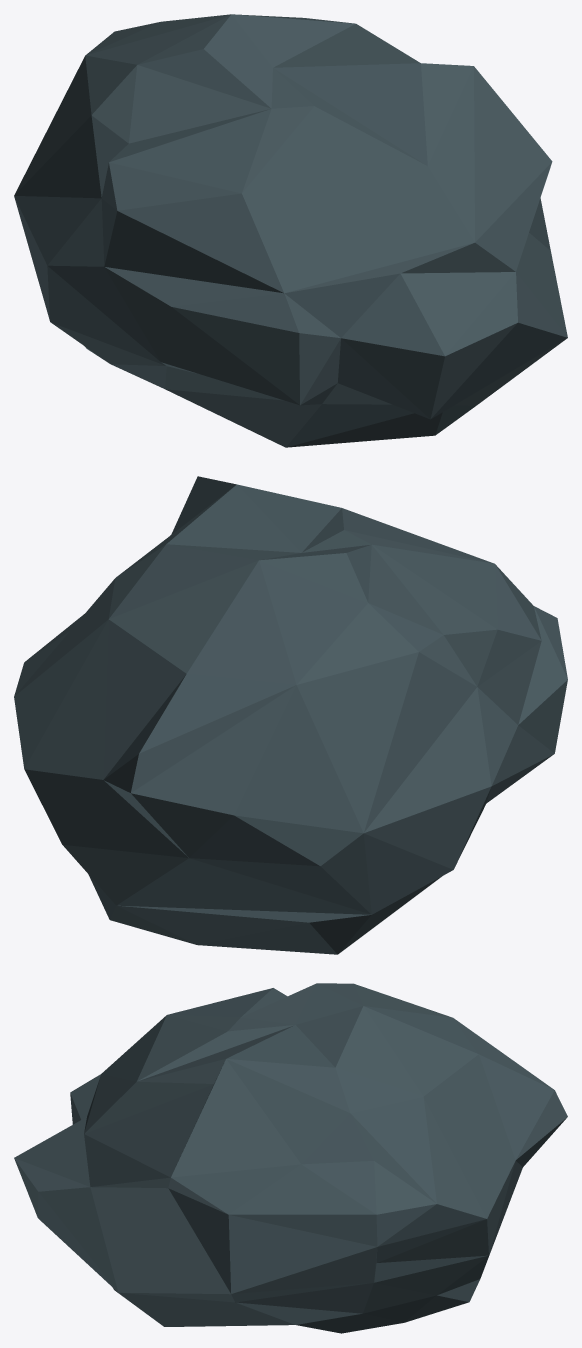
File: Rock3.fbx
The picture shows the model from 3 angles, top to bottom: view 1: azimuth 30°, elevation 25°; view 2: azimuth 150°, elevation 25°; view 3: azimuth 270°, elevation 25°; orthographic projection. The views are drawn at different scales.
Parts seen in each view (by area): view 1: rock3; view 2: rock3; view 3: rock3.
Boxes of the visible parts, x1,y1,x2,y2 form: rock3: [14, 14, 567, 447]; rock3: [14, 476, 567, 954]; rock3: [14, 983, 567, 1333].
Bounding box in the file's own units: 11.34 × 8.13 × 14.99.
